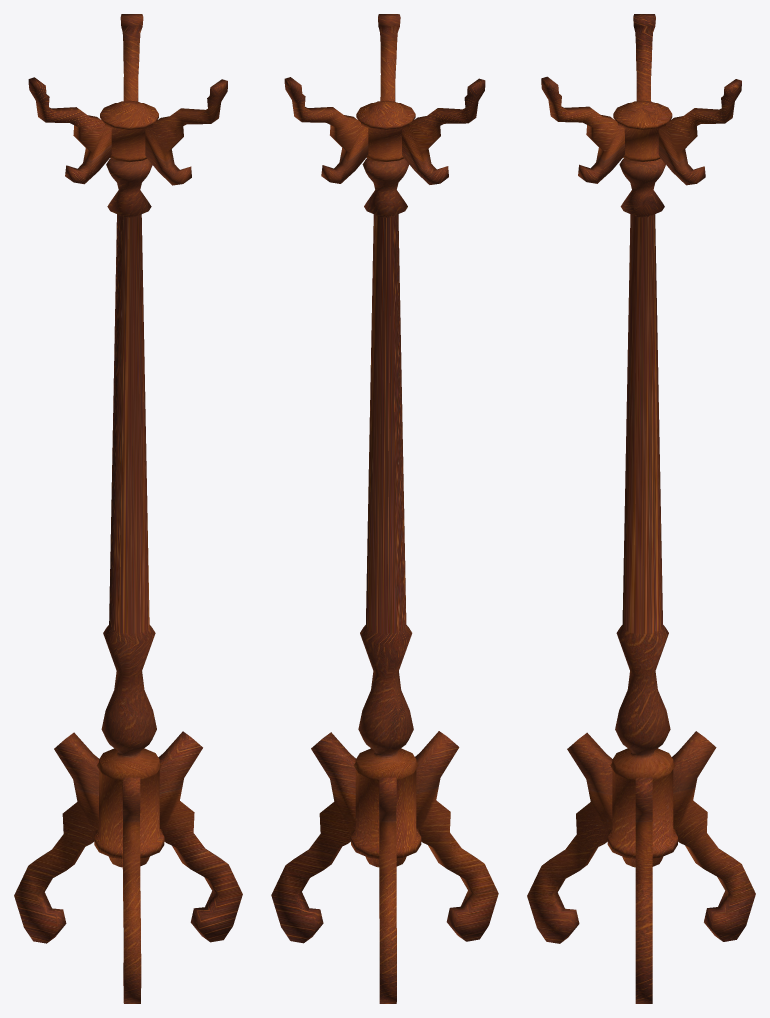
File: HatRackLOD.fbx
3 views of the same model, side by side, from view 1: azimuth 30°, elevation 25°; view 2: azimuth 150°, elevation 25°; view 3: azimuth 270°, elevation 25° (orthographic).
Visible parts, largest first — view 1: Hatrack_LOD0; view 2: Hatrack_LOD0; view 3: Hatrack_LOD0.
Part boxes in pixels (x1=…): Hatrack_LOD0: x1=14, y1=14, x2=242, y2=1003; Hatrack_LOD0: x1=271, y1=14, x2=498, y2=1003; Hatrack_LOD0: x1=527, y1=14, x2=755, y2=1003.
Size of what is drawn, in the model's own units: 80.3 by 336 by 77.49.
